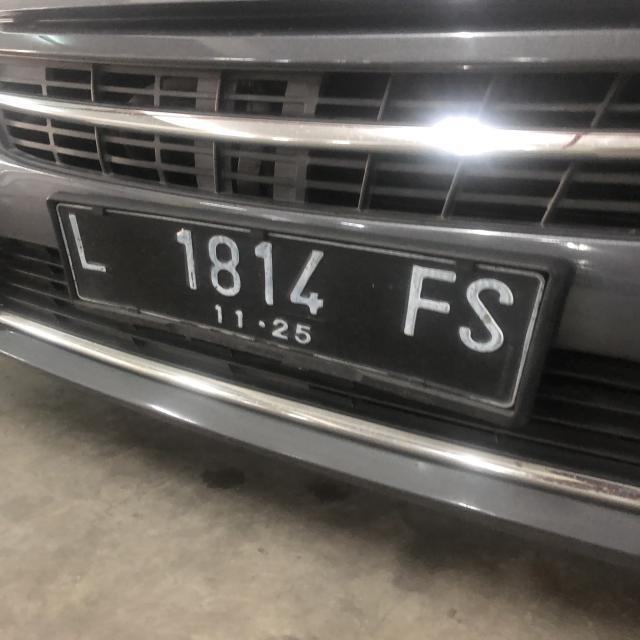1: (247, 236, 280, 312), (173, 226, 204, 294)
4: (290, 248, 326, 322)
8: (205, 232, 246, 297)
F: (400, 254, 462, 348)
L: (62, 208, 116, 279)
S: (456, 274, 518, 356)
